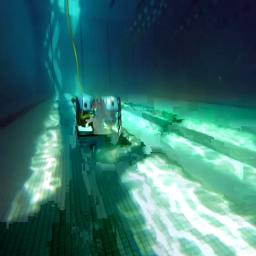back: (70, 92, 126, 148)
